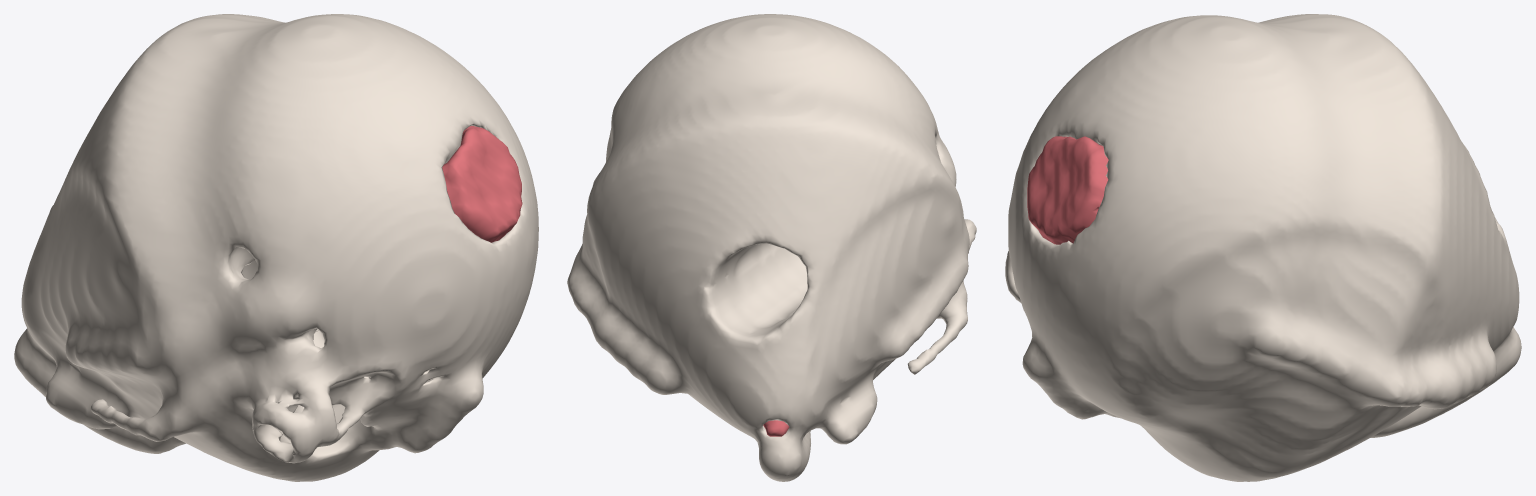
The model's file is case_09.glb.
3 renders of one model, left to right at view 1: azimuth 30°, elevation 25°; view 2: azimuth 150°, elevation 25°; view 3: azimuth 270°, elevation 25°, orthographic. The views are drawn at different scales.
Parts seen in each view (by area): view 1: heart, pool; view 2: heart; view 3: heart, pool.
Part boxes in pixels (x1,y1,x2,y2): heart: [14, 14, 538, 481]; pool: [442, 126, 522, 242]; heart: [567, 14, 976, 481]; heart: [1005, 14, 1521, 481]; pool: [1027, 136, 1108, 244].
Bounding box in the file's own units: 126 × 133 × 138.
